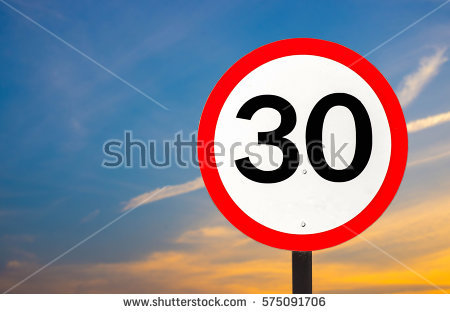Speed_limit_30km: (194, 38, 411, 252)
